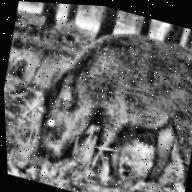boar: (16, 1, 192, 187)
